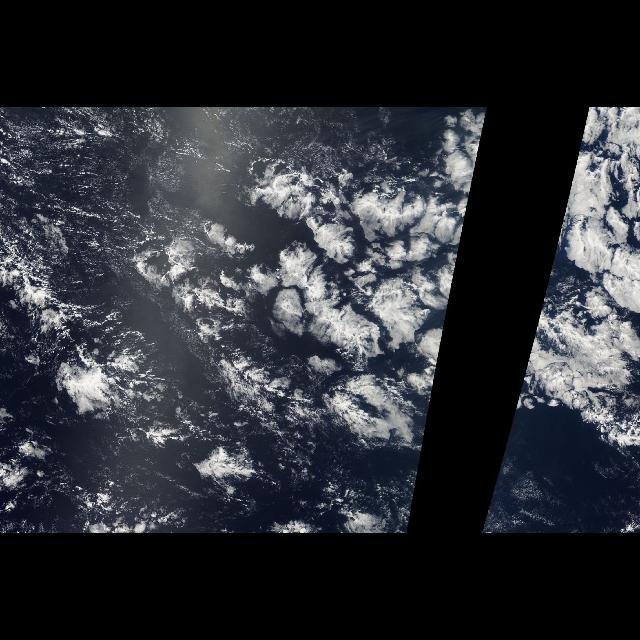Flower: (146, 124, 484, 452), (502, 124, 640, 452)
Sugar: (1, 110, 362, 294)
